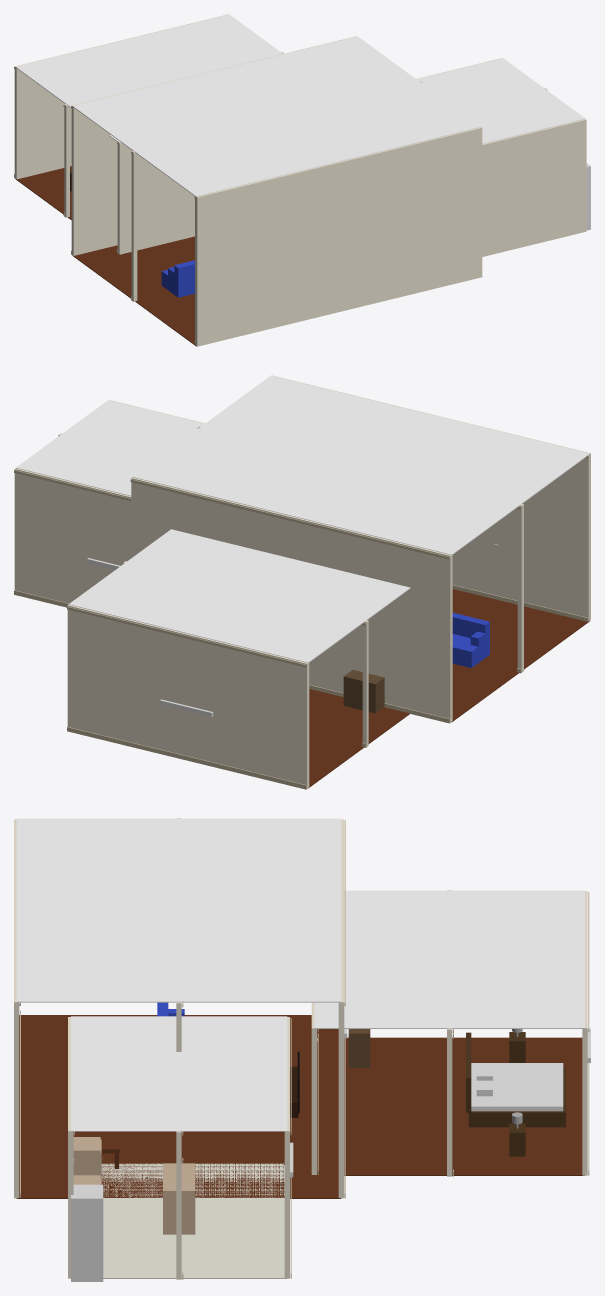
The model's file is ultra_detailed_1426.obj.
The picture shows the model from 3 angles, top to bottom: view 1: azimuth 30°, elevation 25°; view 2: azimuth 150°, elevation 25°; view 3: azimuth 270°, elevation 25°; orthographic projection. The views are drawn at different scales.
Visible parts, largest first — view 1: Living_front_wall_Living_front_wall_material, Living_ceiling_Living_ceiling_material, Kitchen_front_wall_Kitchen_front_wall_material, Bedroom_ceiling_Bedroom_ceiling_material, Kitchen_ceiling_Kitchen_ceiling_material, Living_back_wall_Living_back_wall_material, Bedroom_front_wall_Bedroom_front_wall_material, Living_floor_Living_floor_material, Bedroom_back_wall_Bedroom_back_wall_material, Bedroom_floor_Bedroom_floor_material, Living_left_wall_Living_left_wall_material, Bedroom_left_wall_Bedroom_left_wall_material (+1 smaller); view 2: Living_ceiling_Living_ceiling_material, Bedroom_back_wall_Bedroom_back_wall_material, Living_back_wall_Living_back_wall_material, Bedroom_ceiling_Bedroom_ceiling_material, Living_front_wall_Living_front_wall_material, Kitchen_back_wall_Kitchen_back_wall_material, Kitchen_ceiling_Kitchen_ceiling_material, Living_floor_Living_floor_material, Bedroom_floor_Bedroom_floor_material, Bedroom_dresser_Bedroom_dresser_material, Bedroom_back_wall_baseboard_Bedroom_back_wall_baseboard_material, Living_back_wall_crown_Living_back_wall_baseboard_material (+6 smaller); view 3: Living_ceiling_Living_ceiling_material, Bedroom_ceiling_Bedroom_ceiling_material, Bedroom_floor_Bedroom_floor_material, Living_floor_Living_floor_material, Kitchen_ceiling_Kitchen_ceiling_material, Kitchen_floor_Kitchen_floor_material, Bedroom_bed_mattress_Bedroom_bed_bedding, Kitchen_fridge_Kitchen_fridge_material, Living_back_wall_Living_back_wall_material, Kitchen_island_Kitchen_island_material, Living_front_wall_Living_front_wall_material, Bedroom_bed_base_Bedroom_bed_wood (+8 smaller).
Boxes of the visible parts, left/top/right/bottom form: Living_front_wall_Living_front_wall_material: left=195, top=127, right=482, bottom=346; Living_ceiling_Living_ceiling_material: left=72, top=36, right=480, bottom=196; Kitchen_front_wall_Kitchen_front_wall_material: left=482, top=119, right=586, bottom=256; Bedroom_ceiling_Bedroom_ceiling_material: left=15, top=14, right=282, bottom=142; Kitchen_ceiling_Kitchen_ceiling_material: left=417, top=58, right=585, bottom=143; Living_back_wall_Living_back_wall_material: left=71, top=36, right=356, bottom=255; Bedroom_front_wall_Bedroom_front_wall_material: left=117, top=142, right=194, bottom=254; Living_floor_Living_floor_material: left=73, top=236, right=195, bottom=345; Bedroom_back_wall_Bedroom_back_wall_material: left=14, top=14, right=228, bottom=179; Bedroom_floor_Bedroom_floor_material: left=15, top=166, right=112, bottom=248; Living_left_wall_Living_left_wall_material: left=131, top=151, right=137, bottom=301; Bedroom_left_wall_Bedroom_left_wall_material: left=64, top=104, right=69, bottom=217; Living_ceiling_Living_ceiling_material: left=132, top=376, right=589, bottom=554; Bedroom_back_wall_Bedroom_back_wall_material: left=67, top=604, right=309, bottom=788; Living_back_wall_Living_back_wall_material: left=131, top=477, right=452, bottom=722; Bedroom_ceiling_Bedroom_ceiling_material: left=68, top=529, right=410, bottom=663; Living_front_wall_Living_front_wall_material: left=271, top=375, right=590, bottom=621; Kitchen_back_wall_Kitchen_back_wall_material: left=14, top=468, right=131, bottom=603; Kitchen_ceiling_Kitchen_ceiling_material: left=16, top=400, right=204, bottom=495; Living_floor_Living_floor_material: left=451, top=589, right=589, bottom=722; Bedroom_floor_Bedroom_floor_material: left=308, top=689, right=409, bottom=788; Bedroom_dresser_Bedroom_dresser_material: left=343, top=670, right=384, bottom=713; Bedroom_back_wall_baseboard_Bedroom_back_wall_baseboard_material: left=67, top=727, right=306, bottom=789; Living_back_wall_crown_Living_back_wall_baseboard_material: left=130, top=479, right=450, bottom=559; Living_ceiling_Living_ceiling_material: left=16, top=818, right=341, bottom=1002; Bedroom_ceiling_Bedroom_ceiling_material: left=314, top=890, right=584, bottom=1028; Bedroom_floor_Bedroom_floor_material: left=317, top=1037, right=584, bottom=1175; Living_floor_Living_floor_material: left=16, top=1015, right=341, bottom=1198; Kitchen_ceiling_Kitchen_ceiling_material: left=71, top=1016, right=287, bottom=1131; Kitchen_floor_Kitchen_floor_material: left=101, top=1163, right=287, bottom=1278; Bedroom_bed_mattress_Bedroom_bed_bedding: left=471, top=1063, right=563, bottom=1111; Kitchen_fridge_Kitchen_fridge_material: left=71, top=1184, right=103, bottom=1281; Living_back_wall_Living_back_wall_material: left=338, top=819, right=344, bottom=1198; Kitchen_island_Kitchen_island_material: left=163, top=1163, right=195, bottom=1234; Living_front_wall_Living_front_wall_material: left=14, top=819, right=19, bottom=1198; Bedroom_bed_base_Bedroom_bed_wood: left=468, top=1067, right=565, bottom=1127.
Bounding box in the file's own units: 11.7 × 4.37 × 10.66.
